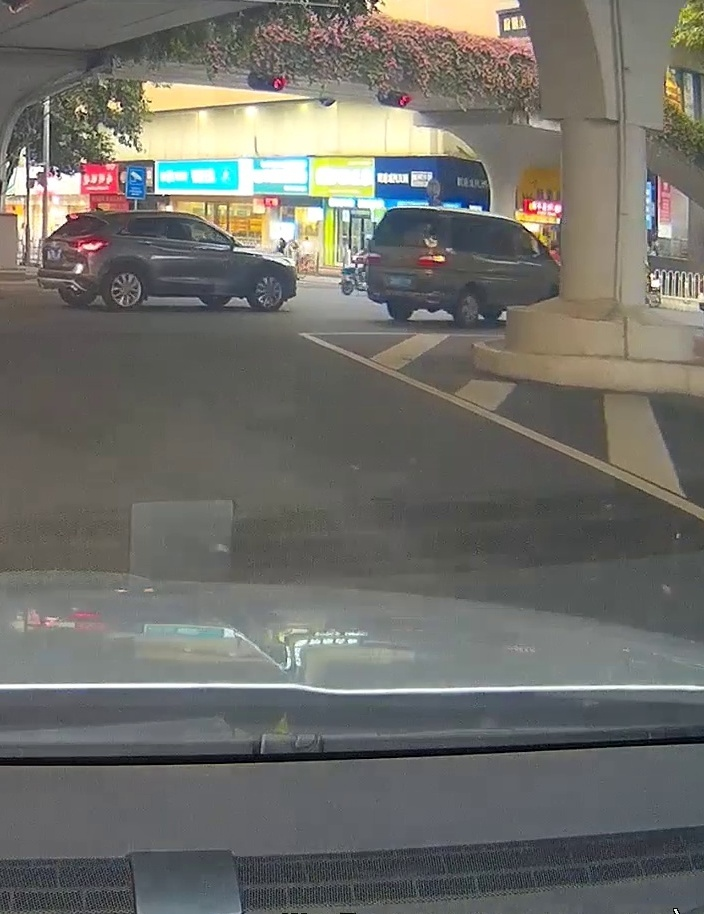L_light: (366, 253, 382, 265)
R_light: (416, 256, 447, 268)
T_light: (405, 212, 421, 217)
night-right: (365, 207, 451, 329)
